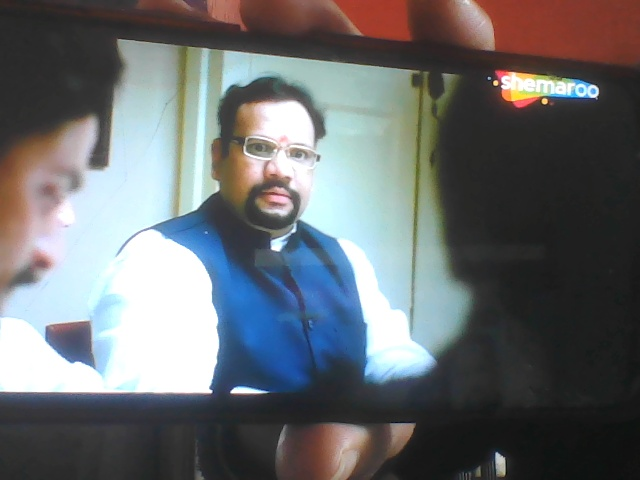fake: (209, 70, 325, 234)
